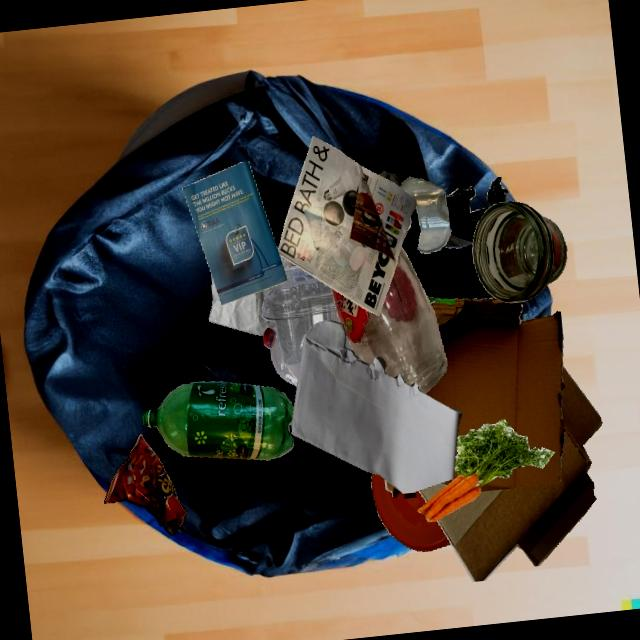biowaste: (416, 418, 554, 521)
cardboard: (437, 365, 602, 581), (470, 311, 565, 491), (358, 340, 466, 498)
glass: (330, 246, 446, 393), (472, 200, 566, 302), (294, 266, 355, 355), (400, 176, 451, 253), (377, 171, 401, 187), (291, 262, 296, 266), (291, 262, 294, 266)
paper: (291, 319, 461, 494), (277, 136, 415, 315), (182, 161, 287, 304), (227, 248, 289, 302), (209, 289, 276, 335), (287, 260, 291, 267)
plastic: (142, 381, 294, 460), (261, 266, 340, 365), (371, 472, 450, 551), (444, 176, 508, 248), (262, 327, 300, 386)
trash: (104, 434, 187, 534)
